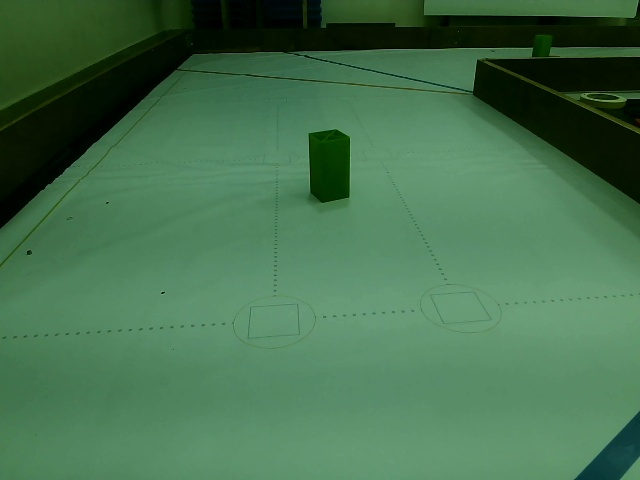green: (310, 132, 350, 202)
